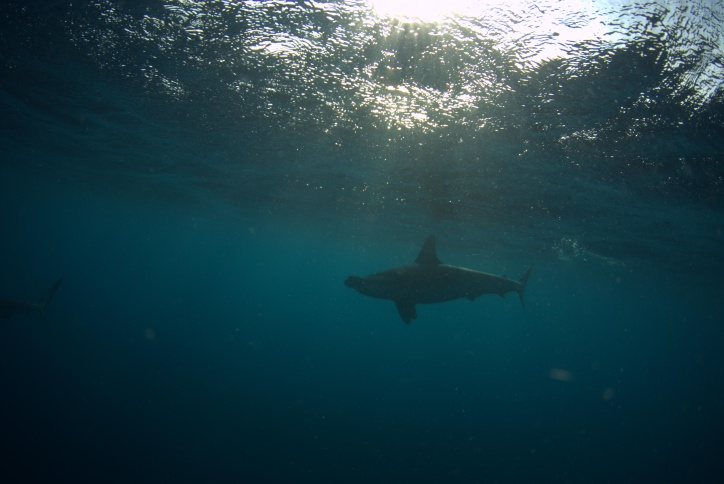Hammer: (312, 214, 569, 354)
